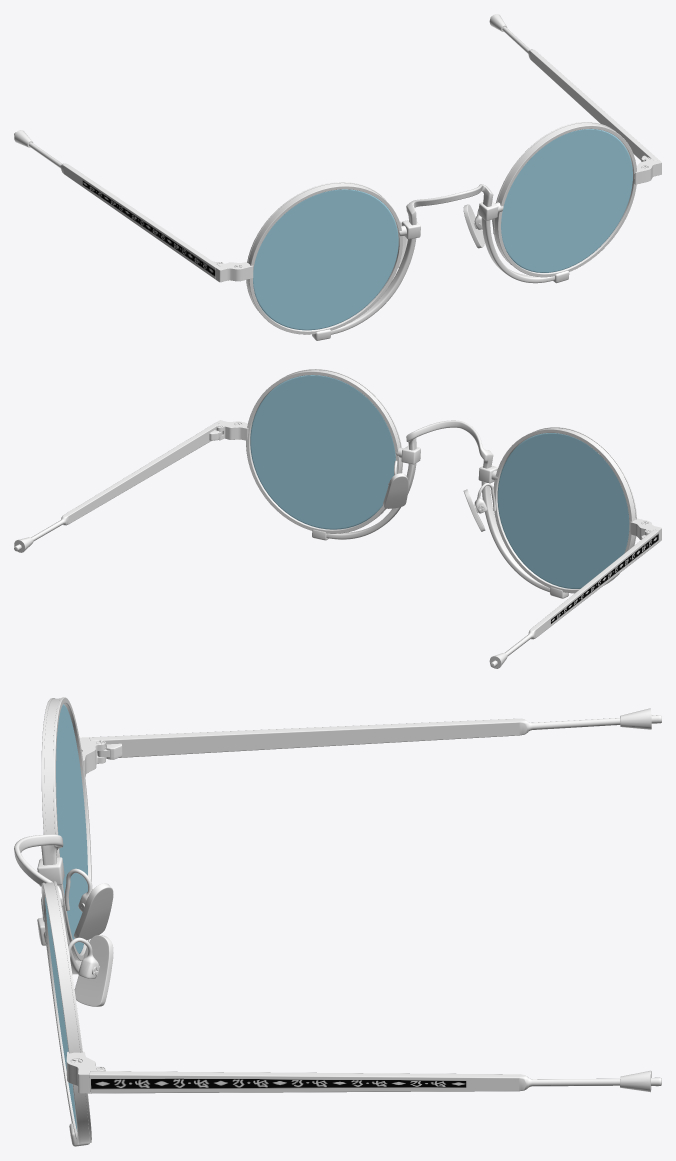
The model's file is up-imd1.glb.
The picture shows the model from 3 angles, top to bottom: view 1: azimuth 30°, elevation 25°; view 2: azimuth 150°, elevation 25°; view 3: azimuth 270°, elevation 25°; orthographic projection. The views are drawn at different scales.
Visible parts, largest first — view 1: Object_4, Object_8, Object_2, Object_6, Object_3, Object_7; view 2: Object_4, Object_8, Object_2, Object_6, Object_7, Object_3; view 3: Object_2, Object_8, Object_4, Object_6, Object_7, Object_3.
Part boxes in pixels (x1=…): Object_4: x1=253, y1=129, x2=632, y2=330; Object_8: x1=213, y1=122, x2=646, y2=334; Object_2: x1=14, y1=14, x2=658, y2=279; Object_6: x1=312, y1=184, x2=569, y2=340; Object_3: x1=215, y1=157, x2=661, y2=282; Object_7: x1=217, y1=157, x2=650, y2=268; Object_4: x1=250, y1=375, x2=629, y2=588; Object_8: x1=209, y1=369, x2=646, y2=593; Object_2: x1=14, y1=422, x2=658, y2=668; Object_6: x1=312, y1=420, x2=568, y2=598; Object_7: x1=217, y1=422, x2=650, y2=532; Object_3: x1=216, y1=420, x2=661, y2=542; Object_2: x1=89, y1=708, x2=661, y2=1093; Object_8: x1=41, y1=697, x2=122, y2=1144; Object_4: x1=45, y1=704, x2=87, y2=1131; Object_6: x1=14, y1=834, x2=98, y2=1146; Object_7: x1=71, y1=741, x2=113, y2=1070; Object_3: x1=66, y1=737, x2=105, y2=1093.
Size of the model in its own units: 5.13 by 1.61 by 3.79.
5 materials, 1 textured.
